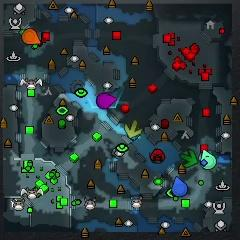p1: (173, 176, 187, 196)
p2: (202, 150, 217, 169)
p3: (97, 93, 116, 109)
p5: (22, 30, 40, 44)
x2: (125, 120, 141, 139)
x4: (180, 149, 197, 167)
